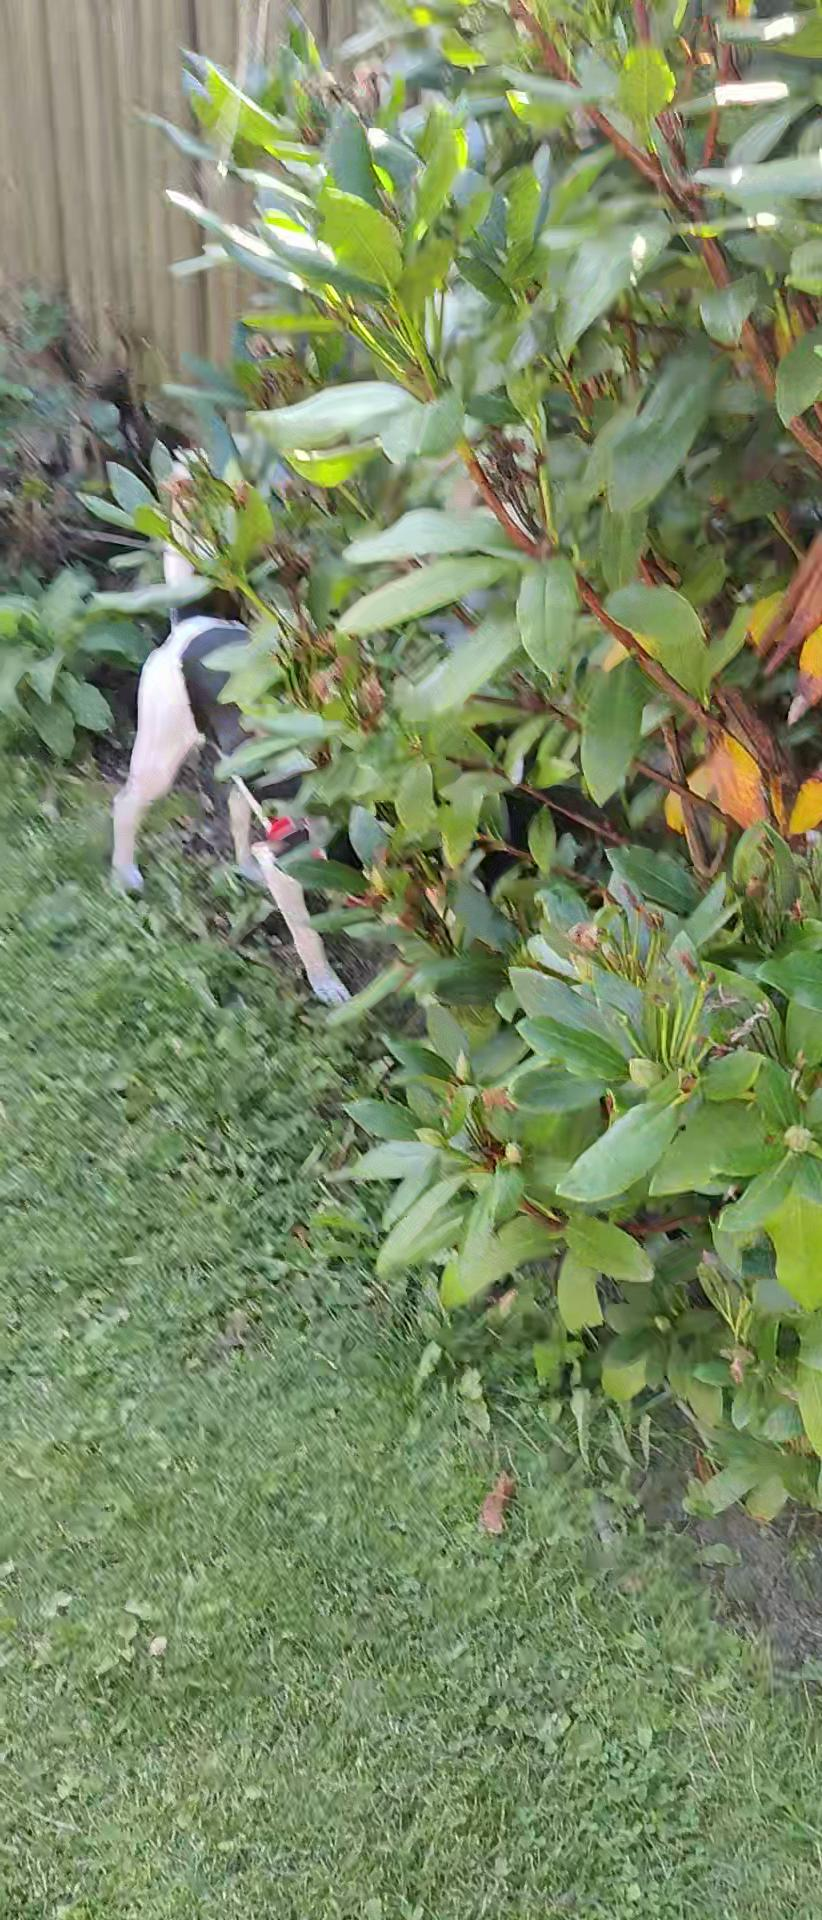Dog: (89, 435, 537, 1018)
